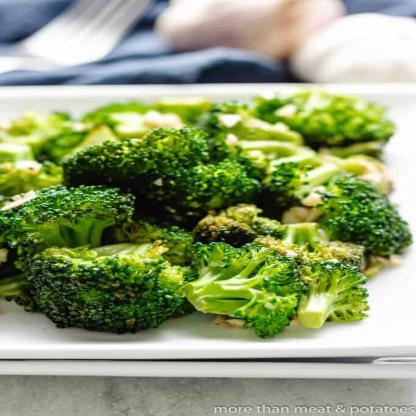broccoli: (0, 84, 415, 338)
